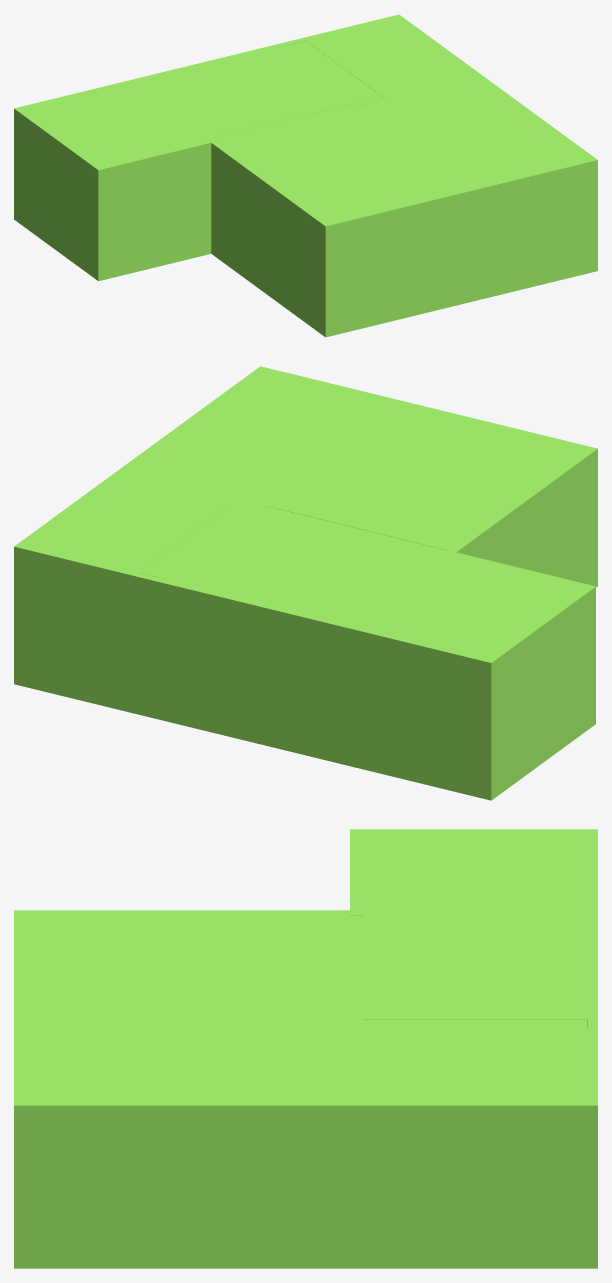
The model's file is dalamRumah.fbx.
The picture shows the model from 3 angles, top to bottom: view 1: azimuth 30°, elevation 25°; view 2: azimuth 150°, elevation 25°; view 3: azimuth 270°, elevation 25°; orthographic projection. The views are drawn at different scales.
Visible parts, largest first — view 1: Cube.032; view 2: Cube.032; view 3: Cube.032.
Boxes of the visible parts, bbox=[...] form: Cube.032: bbox=[14, 14, 597, 337]; Cube.032: bbox=[14, 366, 597, 800]; Cube.032: bbox=[14, 829, 597, 1268].
Bounding box in the file's own units: 6918 × 1906 × 6185.
